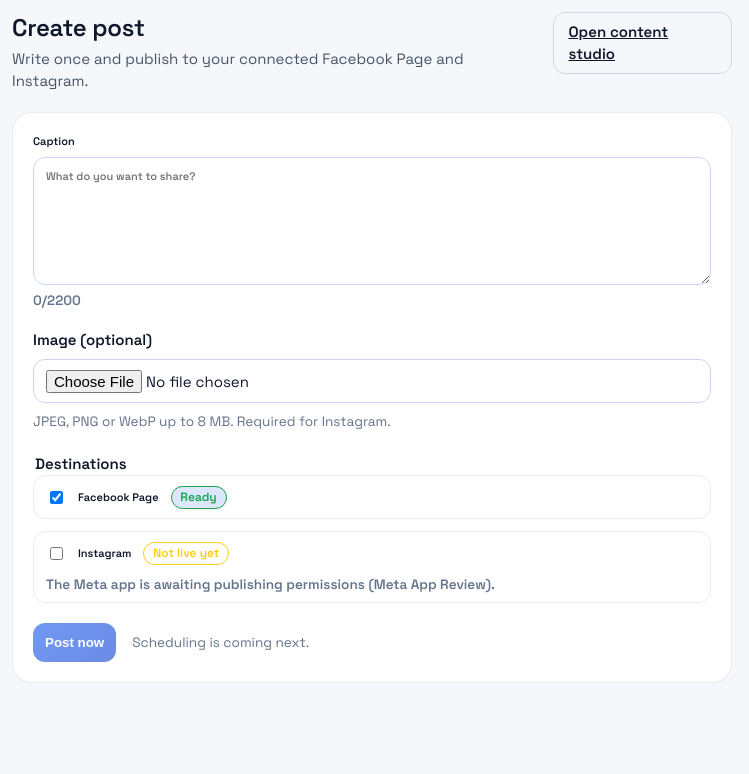
Scenario: QuickComposer › publishes a text post via the create-draft-with-version path
In the text box with placeholder "What do you want to share?": coordinates (372, 221) [33,157,711,285], type "Hello Jamaica"
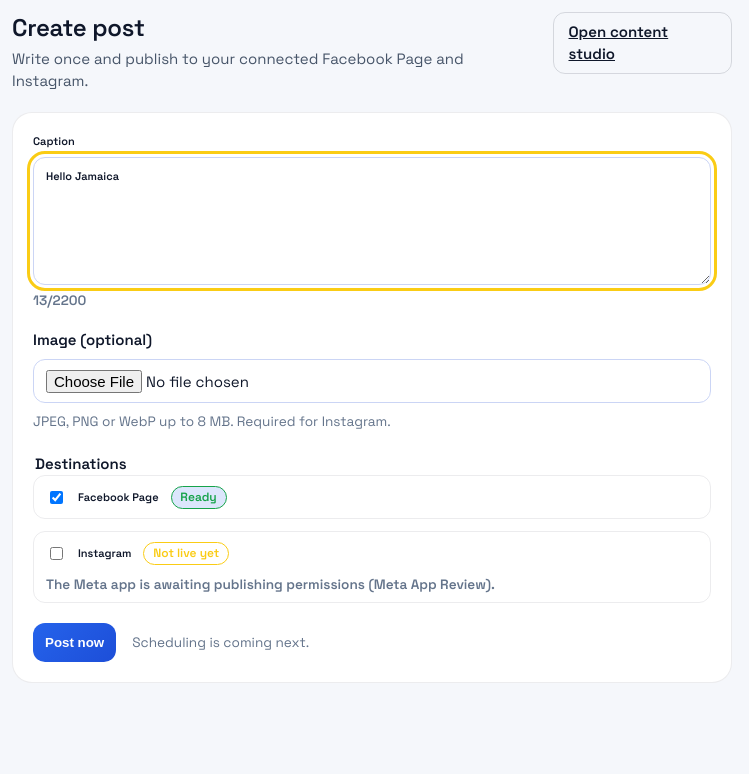
Click the button "Post now": coordinates (75, 643) [33,623,116,662]
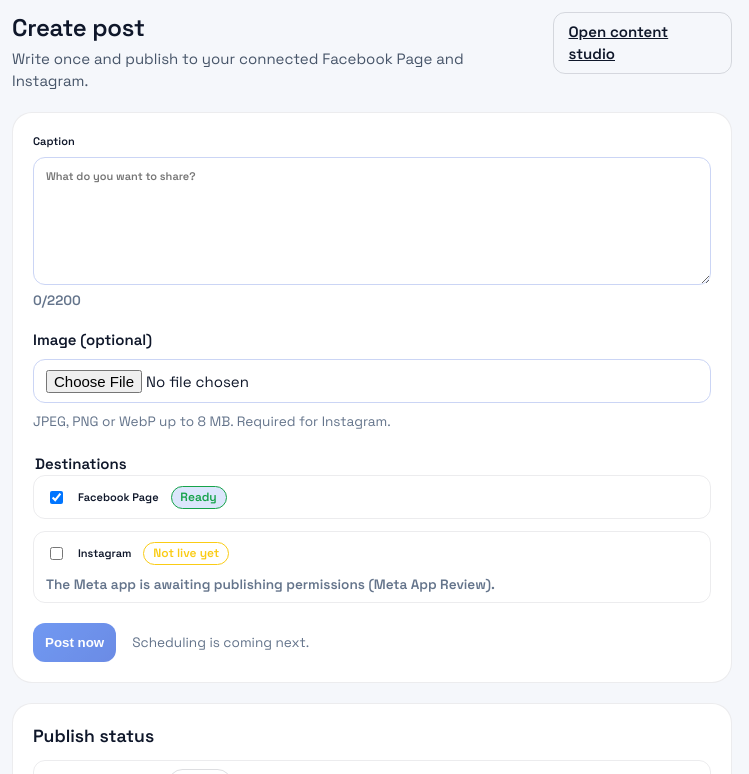
Expected: the heading "Publish status" is shown, [33,725,154,747]
